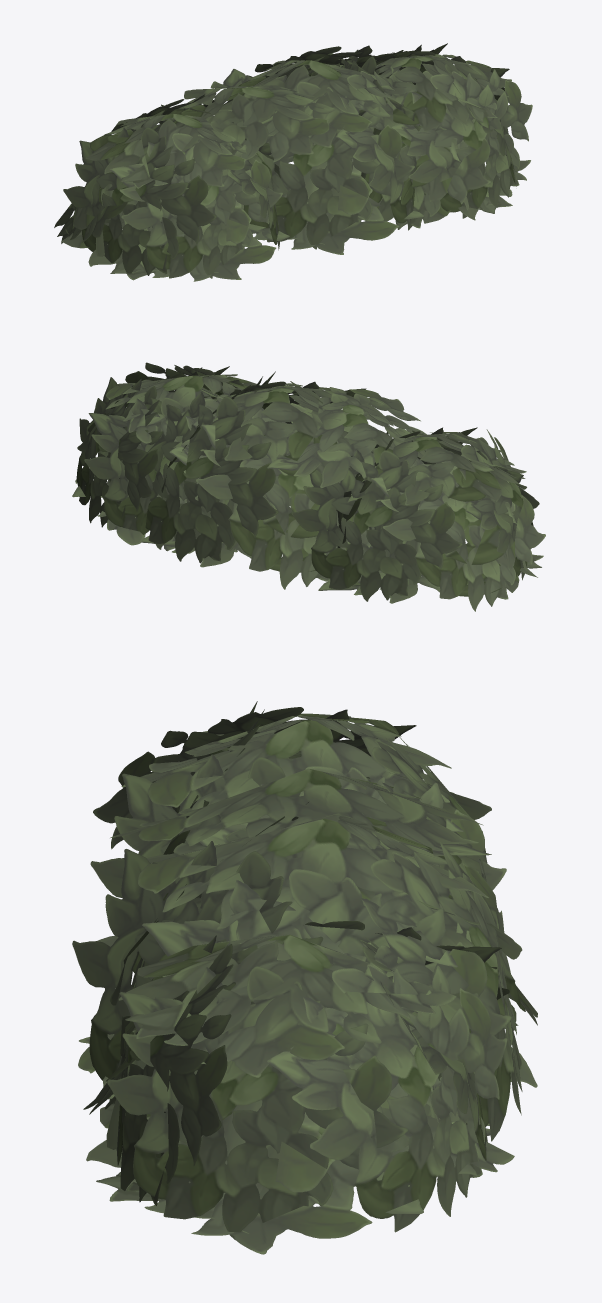
File: RoundBush_long_2sides.FBX
3 renders of one model, top to bottom at view 1: azimuth 30°, elevation 25°; view 2: azimuth 150°, elevation 25°; view 3: azimuth 270°, elevation 25°, orthographic. The views are drawn at different scales.
Parts seen in each view (by area): view 1: RoundBush_long_2sides; view 2: RoundBush_long_2sides; view 3: RoundBush_long_2sides.
Part boxes in pixels (left/top/right/bottom): RoundBush_long_2sides: left=54, top=43, right=532, bottom=281; RoundBush_long_2sides: left=72, top=362, right=545, bottom=611; RoundBush_long_2sides: left=72, top=701, right=537, bottom=1254.
Bounding box in the file's own units: 43.98 × 24.89 × 14.98.
